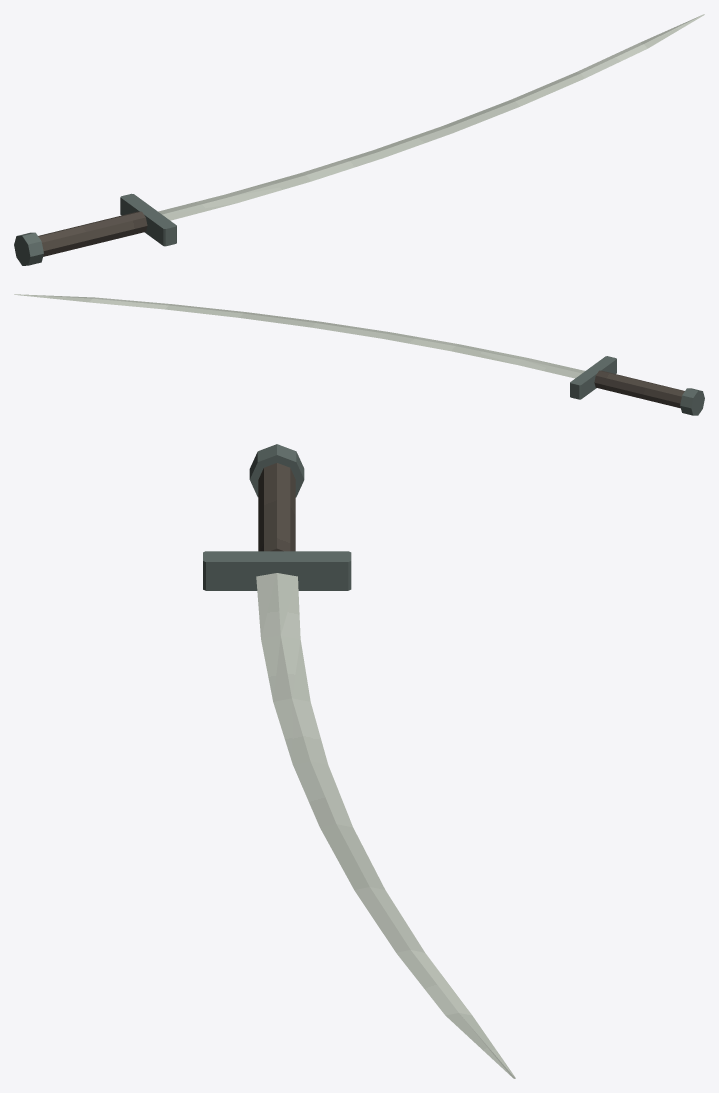
The model's file is weapon-shamshir.glb.
3 views of the same model, one above another, from view 1: azimuth 30°, elevation 25°; view 2: azimuth 150°, elevation 25°; view 3: azimuth 270°, elevation 25° (orthographic). The views are drawn at different scales.
Visible parts, largest first — view 1: weapon-shamshir/faceted-distinct-blade, weapon-shamshir/eight-sided-handle, weapon-shamshir/transverse-crossguard, weapon-shamshir/handle-end-pommel; view 2: weapon-shamshir/faceted-distinct-blade, weapon-shamshir/eight-sided-handle, weapon-shamshir/transverse-crossguard, weapon-shamshir/handle-end-pommel; view 3: weapon-shamshir/faceted-distinct-blade, weapon-shamshir/transverse-crossguard, weapon-shamshir/eight-sided-handle, weapon-shamshir/handle-end-pommel.
Boxes of the visible parts, x1=… form: weapon-shamshir/faceted-distinct-blade: x1=158, y1=14, x2=704, y2=220; weapon-shamshir/eight-sided-handle: x1=38, y1=211, x2=147, y2=256; weapon-shamshir/transverse-crossguard: x1=120, y1=193, x2=176, y2=246; weapon-shamshir/handle-end-pommel: x1=14, y1=232, x2=43, y2=265; weapon-shamshir/faceted-distinct-blade: x1=14, y1=294, x2=584, y2=378; weapon-shamshir/eight-sided-handle: x1=594, y1=370, x2=684, y2=408; weapon-shamshir/transverse-crossguard: x1=570, y1=356, x2=616, y2=399; weapon-shamshir/handle-end-pommel: x1=680, y1=388, x2=704, y2=415; weapon-shamshir/faceted-distinct-blade: x1=256, y1=573, x2=515, y2=1078; weapon-shamshir/transverse-crossguard: x1=203, y1=551, x2=351, y2=590; weapon-shamshir/eight-sided-handle: x1=258, y1=463, x2=295, y2=551; weapon-shamshir/handle-end-pommel: x1=249, y1=444, x2=304, y2=497.
Bounding box in the file's own units: 1 × 0.038 × 0.2175.
Materials: 3 (3 with a texture image).
